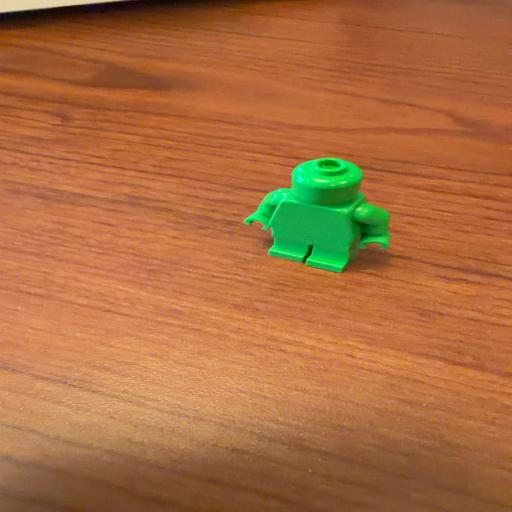UnoQ-minifig-detector: (244, 157, 389, 273)
